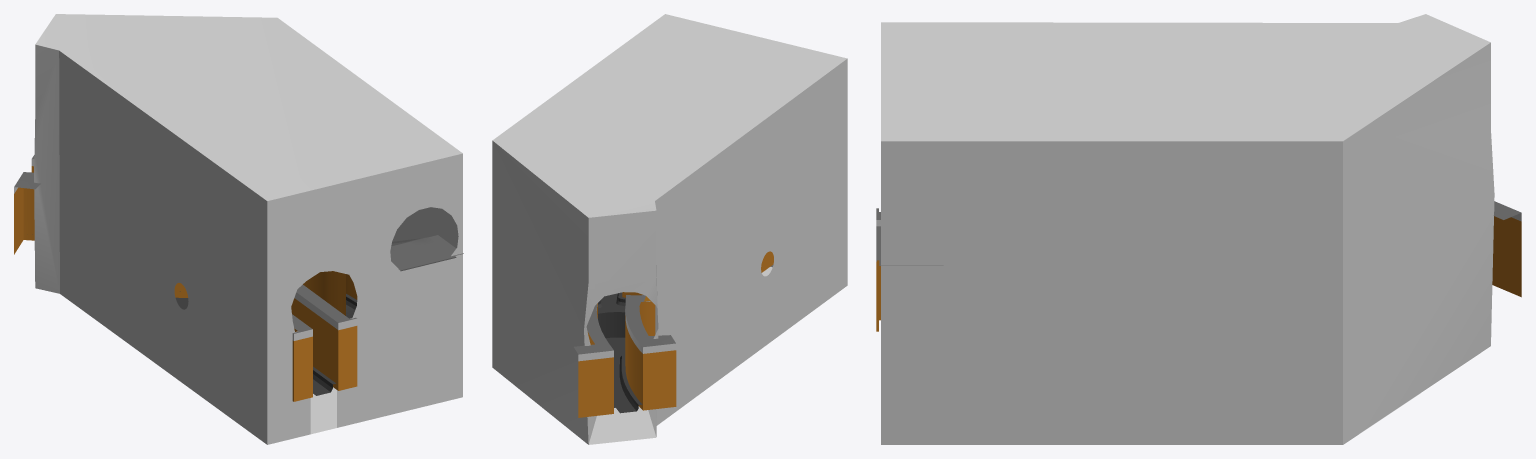
The model's file is SM_H_Building_Tide_Waterway_12_ATLAS.fbx.
3 views of the same model, side by side, from view 1: azimuth 30°, elevation 25°; view 2: azimuth 150°, elevation 25°; view 3: azimuth 270°, elevation 25° (orthographic). The views are drawn at different scales.
Parts seen in each view (by area): view 1: SM_H_Building_Tide_Waterway_12_ATLAS; view 2: SM_H_Building_Tide_Waterway_12_ATLAS; view 3: SM_H_Building_Tide_Waterway_12_ATLAS.
Part boxes in pixels (bbox=[...]): SM_H_Building_Tide_Waterway_12_ATLAS: bbox=[14, 14, 463, 444]; SM_H_Building_Tide_Waterway_12_ATLAS: bbox=[492, 14, 847, 444]; SM_H_Building_Tide_Waterway_12_ATLAS: bbox=[876, 14, 1521, 444].
Bounding box in the file's own units: 3259 × 6338 × 3291.
